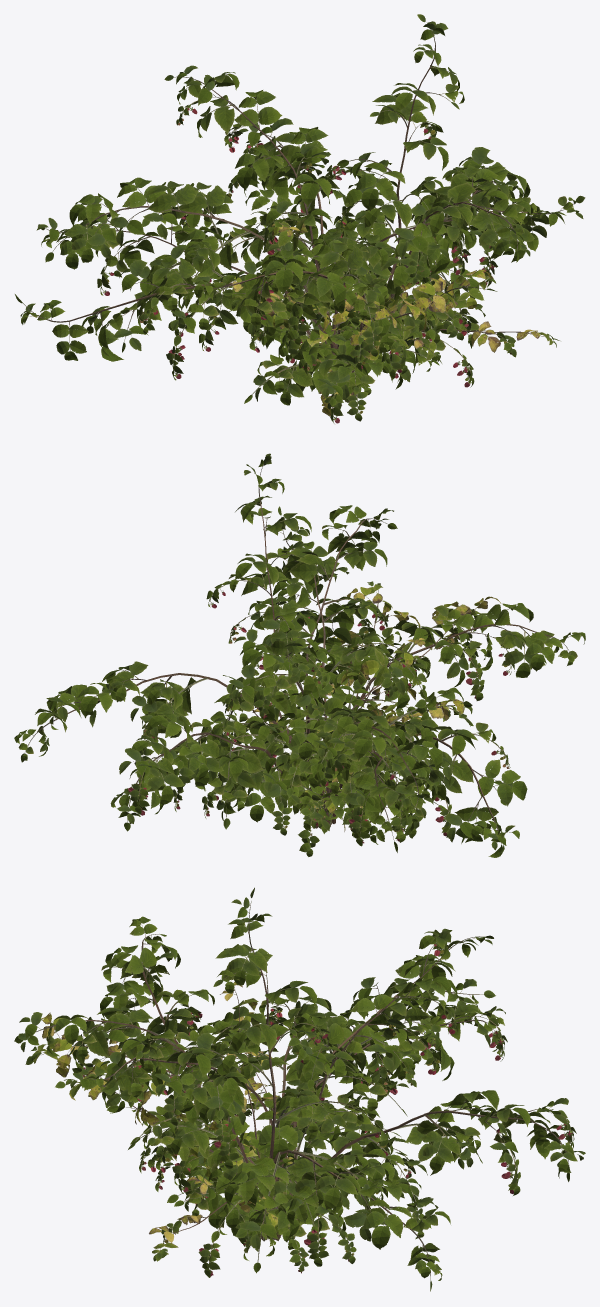
3 views of the same model, one above another, from view 1: azimuth 30°, elevation 25°; view 2: azimuth 150°, elevation 25°; view 3: azimuth 270°, elevation 25° (orthographic). The views are drawn at different scales.
Visible parts, largest first — view 1: SM_wf0oefeja_VarD, SM_wf0oefeja_VarE, SM_wf0oefeja_VarF, SM_wf0oefeja_VarH, SM_wf0oefeja_VarG, SM_wf0oefeja_VarA; view 2: SM_wf0oefeja_VarD, SM_wf0oefeja_VarE, SM_wf0oefeja_VarF, SM_wf0oefeja_VarH, SM_wf0oefeja_VarG, SM_wf0oefeja_VarA; view 3: SM_wf0oefeja_VarD, SM_wf0oefeja_VarE, SM_wf0oefeja_VarF, SM_wf0oefeja_VarH, SM_wf0oefeja_VarG, SM_wf0oefeja_VarA.
Part boxes in pixels (box(x1,y1,x2,y2)): SM_wf0oefeja_VarD: box(41, 118, 585, 421); SM_wf0oefeja_VarE: box(15, 65, 533, 409); SM_wf0oefeja_VarF: box(36, 14, 474, 387); SM_wf0oefeja_VarH: box(217, 269, 497, 423); SM_wf0oefeja_VarG: box(264, 218, 559, 401); SM_wf0oefeja_VarA: box(287, 262, 390, 396); SM_wf0oefeja_VarD: box(14, 506, 585, 856); SM_wf0oefeja_VarE: box(214, 505, 527, 857); SM_wf0oefeja_VarF: box(189, 453, 444, 828); SM_wf0oefeja_VarH: box(251, 581, 501, 827); SM_wf0oefeja_VarG: box(229, 634, 433, 831); SM_wf0oefeja_VarA: box(278, 679, 372, 829); SM_wf0oefeja_VarD: box(70, 916, 585, 1291); SM_wf0oefeja_VarE: box(14, 928, 493, 1273); SM_wf0oefeja_VarF: box(179, 887, 495, 1277); SM_wf0oefeja_VarH: box(25, 1012, 316, 1240); SM_wf0oefeja_VarG: box(149, 974, 286, 1261); SM_wf0oefeja_VarA: box(214, 1092, 330, 1241).
Size of what is drawn, in the model's own units: 1.52 by 1.05 by 1.41.
Materials: 1 (1 with a texture image).
